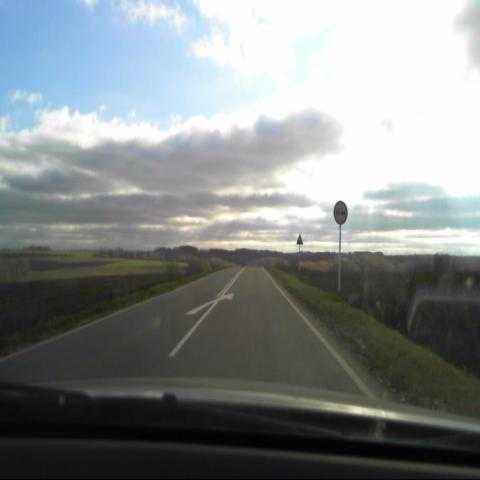1_13: (295, 234, 303, 245)
3_20: (334, 199, 347, 226)
